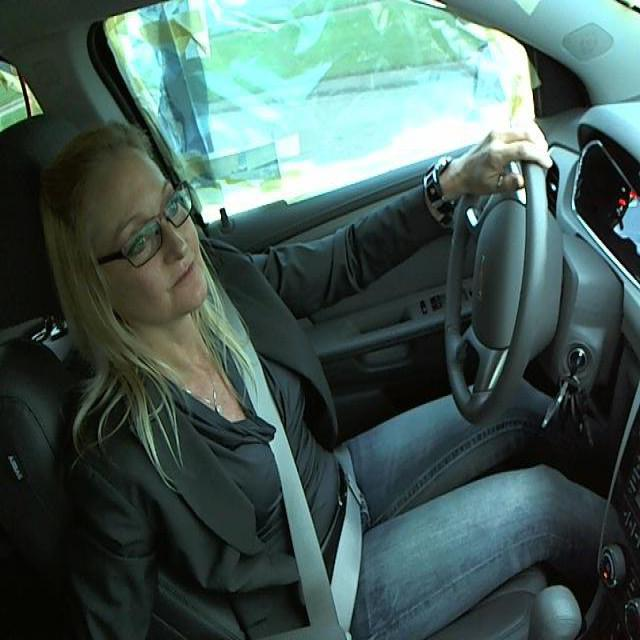seatbelt: (199, 302, 376, 638)
